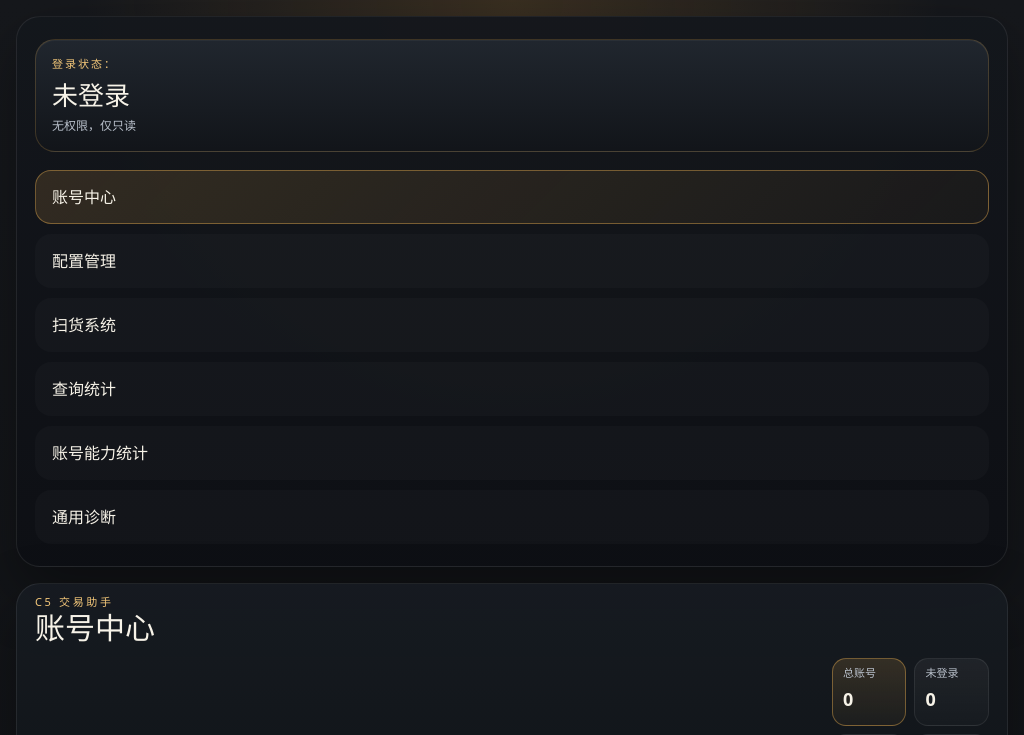
Test case: app renderer diagnostics › logs navigation changes through the desktop bridge
Expected: the text "C5 交易助手" is shown, [35,594,114,609]
Click the button "配置管理" at (84, 261), box [35,234,989,288]
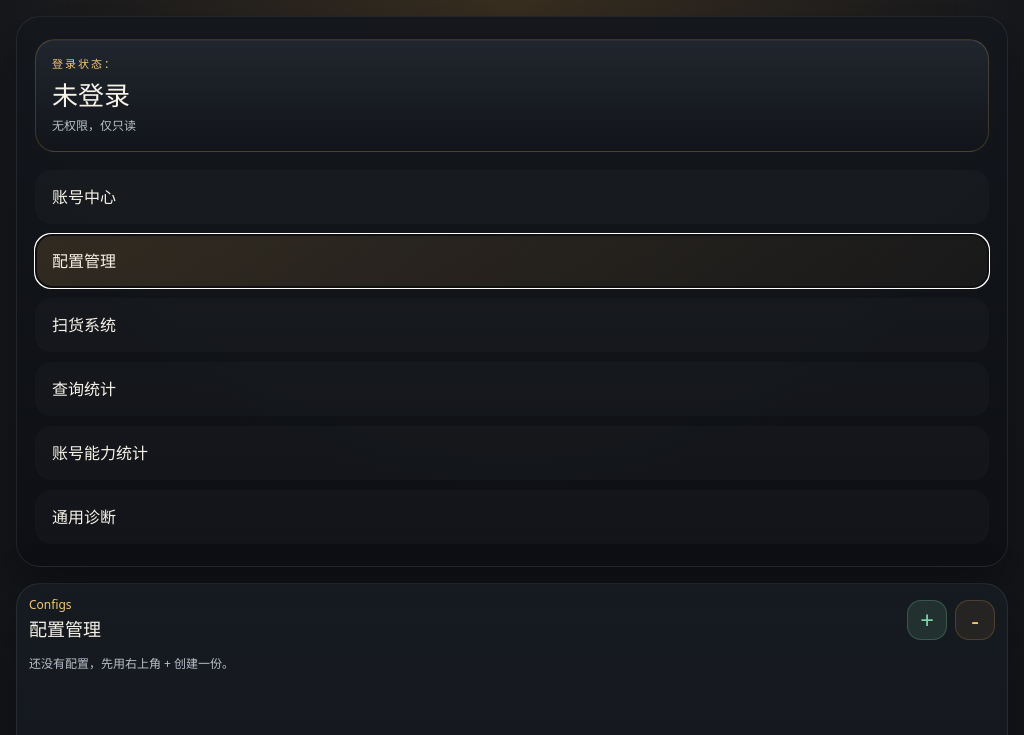
Expected: the heading "配置管理" is shown, [29,616,101,643]
